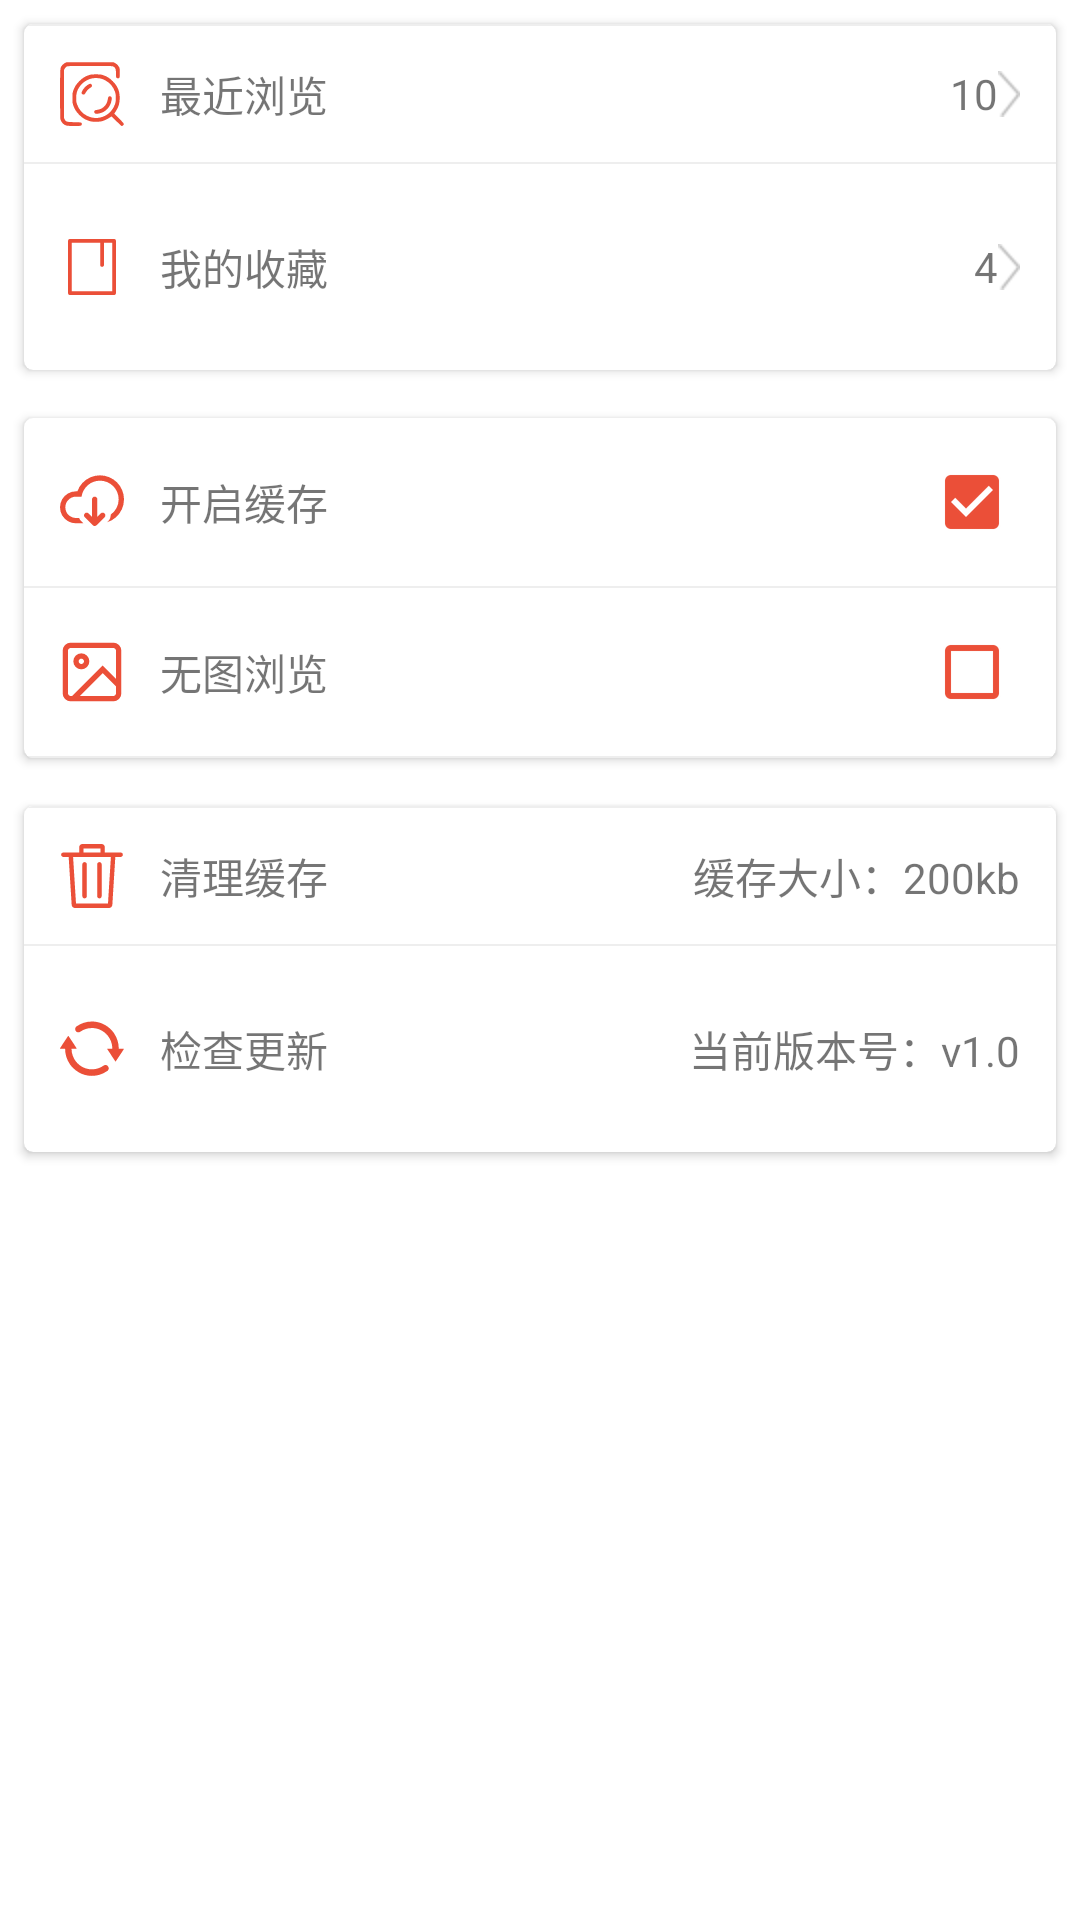

Screen size 1080×1920. Icon name, then its center in pixels as [x,y]:
cache: [92,500]
check: [972,502], [972,672]
clear: [92,876]
like read: [92,267]
look: [92,94]
update: [92,1048]
